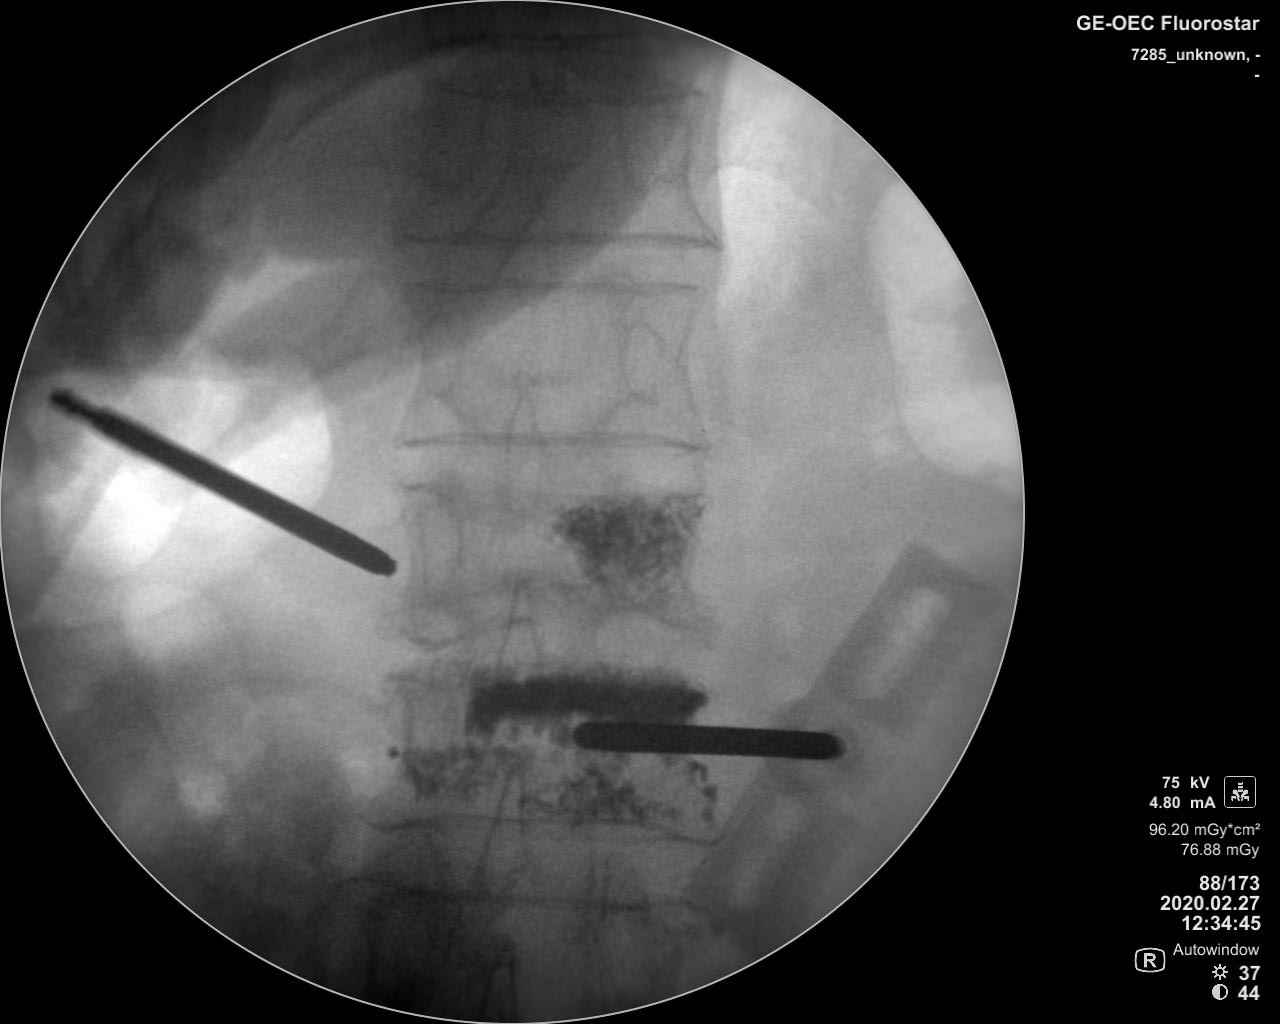eyes: (623, 111, 685, 191), (414, 503, 463, 601), (616, 321, 670, 406), (408, 317, 460, 401)
line: (360, 806, 720, 854), (357, 876, 688, 918), (393, 225, 722, 253), (430, 74, 713, 107), (397, 429, 705, 457), (400, 273, 705, 298)
nose: (478, 757, 532, 912), (501, 378, 549, 525), (495, 573, 548, 693), (473, 942, 525, 1020)
